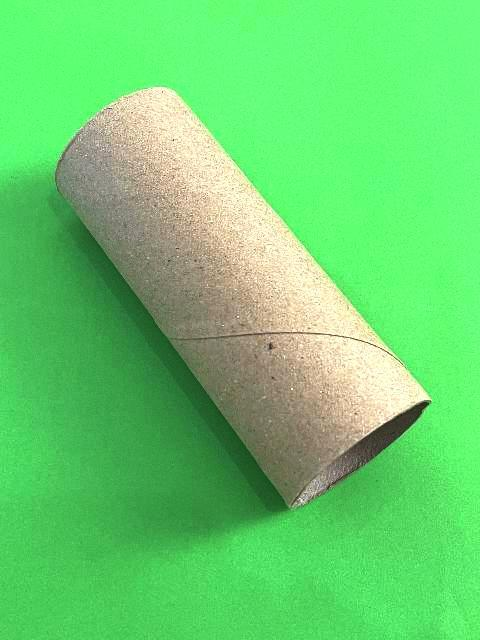tissueroll: (52, 83, 434, 510)
